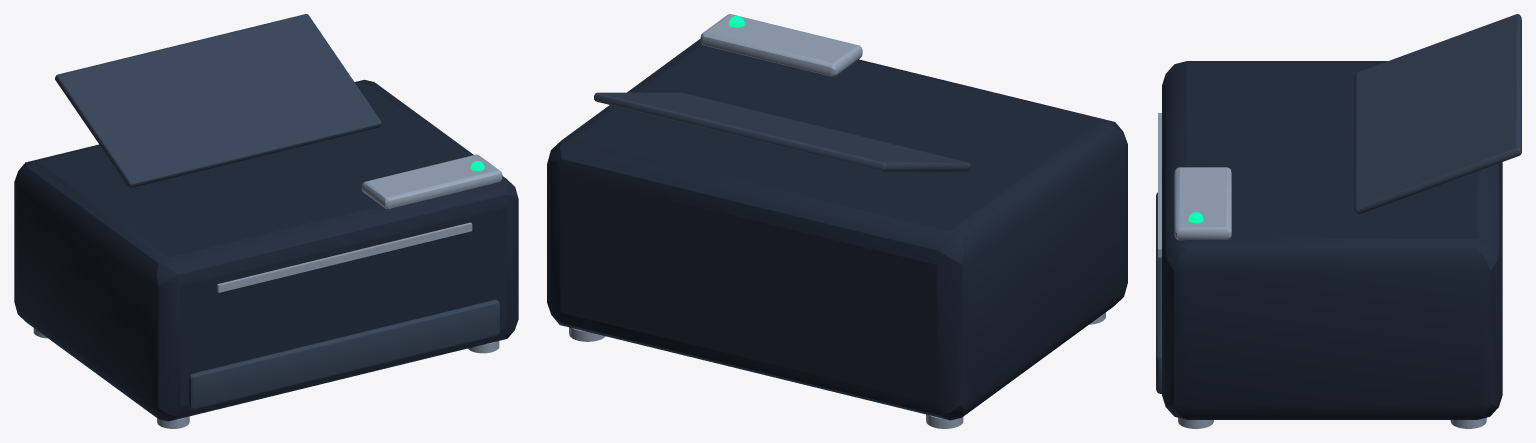
The model's file is printer.glb.
3 renders of one model, left to right at view 1: azimuth 30°, elevation 25°; view 2: azimuth 150°, elevation 25°; view 3: azimuth 270°, elevation 25°, orthographic. The views are drawn at different scales.
Visible parts, largest first — view 1: body, tray; view 2: body, tray; view 3: body, tray.
Part boxes in pixels (x1,y1,x2,y2): body: (14, 79, 518, 428); tray: (55, 14, 499, 409); body: (547, 14, 1127, 428); tray: (594, 92, 970, 171); body: (1158, 61, 1502, 428); tray: (1156, 14, 1521, 393).
Size of the model in its own units: 1.65 by 1 by 1.29.
